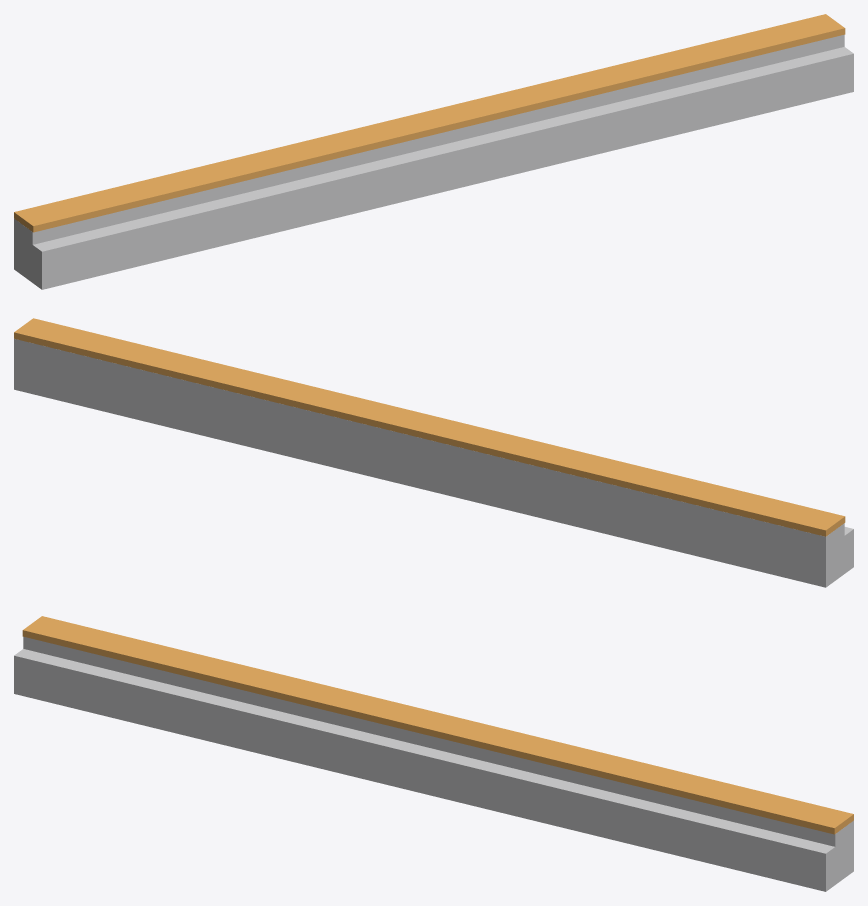
The model's file is modular-greybox-architecture-kit-floor-edge-trim-bbcb9182__22846.glb.
The picture shows the model from 3 angles, top to bottom: view 1: azimuth 30°, elevation 25°; view 2: azimuth 150°, elevation 25°; view 3: azimuth 330°, elevation 25°; orthographic projection.
Visible parts, largest first — view 1: floor-edge-trim; view 2: floor-edge-trim; view 3: floor-edge-trim.
Boxes of the visible parts, <box> form: floor-edge-trim: <box>14,14,853,289</box>; floor-edge-trim: <box>14,318,853,587</box>; floor-edge-trim: <box>14,616,853,891</box>.
Size of the model in its own units: 4 by 0.2698 by 0.2399.
